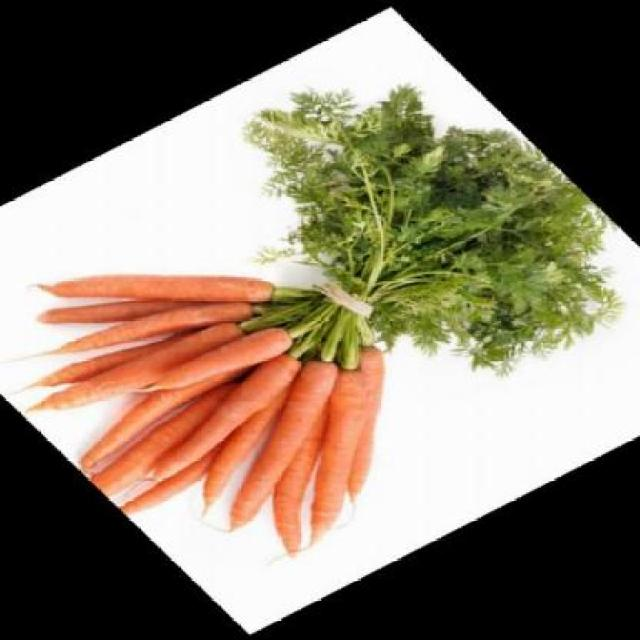carrot: (140, 352, 414, 534), (198, 370, 456, 550), (37, 208, 283, 374), (255, 346, 473, 505), (198, 408, 414, 560), (99, 349, 333, 489), (19, 306, 255, 442), (48, 263, 267, 399), (114, 350, 331, 481), (56, 354, 270, 475), (146, 385, 349, 512), (71, 378, 274, 500), (30, 253, 205, 369), (125, 314, 298, 415), (14, 317, 180, 411)
